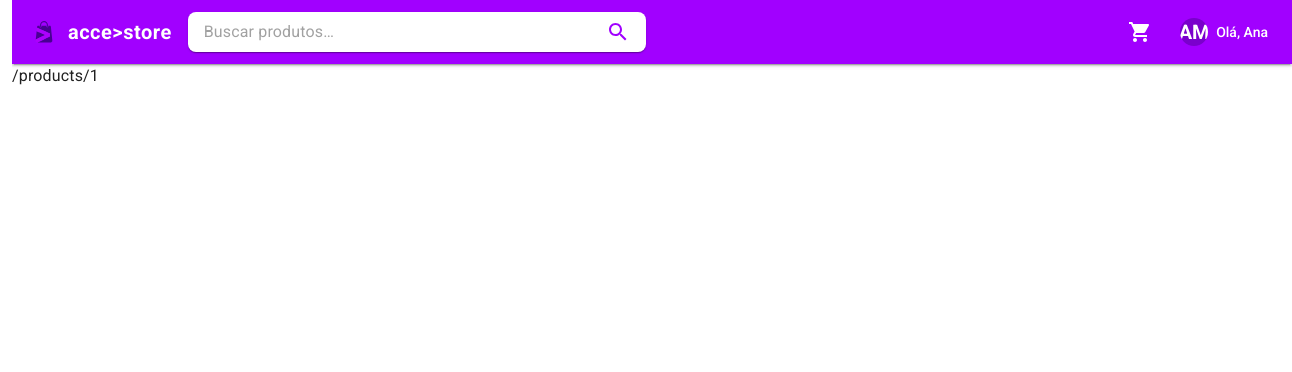
Test: Header › menu do usuário abre, oferece Sair e desloga
Click the button "AM Olá, Ana" at (1226, 32), box [1176, 12, 1276, 52]
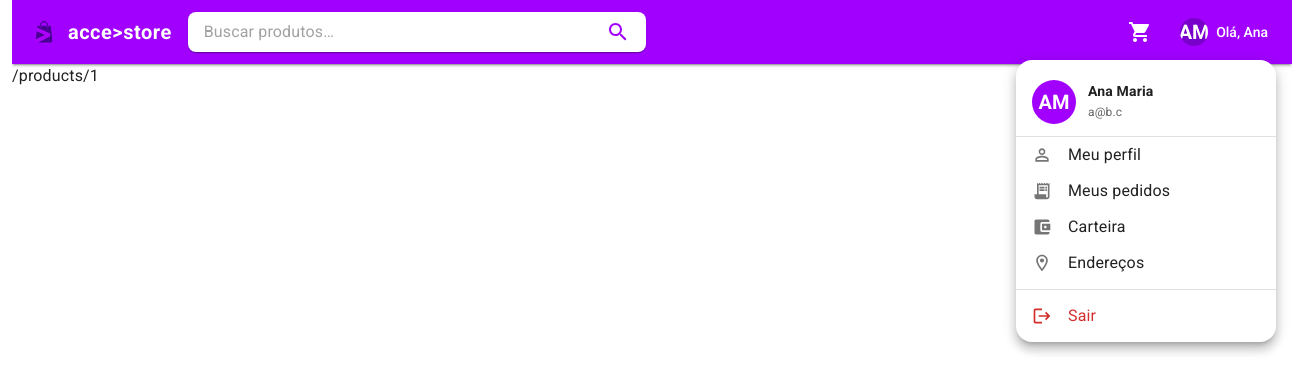
expect the menu item "Meu perfil" is shown: met, box [1032, 145, 1141, 165]
expect the menu item "Meus pedidos" is shown: met, box [1032, 181, 1170, 201]
expect the menu item "Carteira" is shown: met, box [1032, 217, 1126, 237]
Click the menu item "Sair" at (1042, 316), box [1032, 306, 1096, 326]
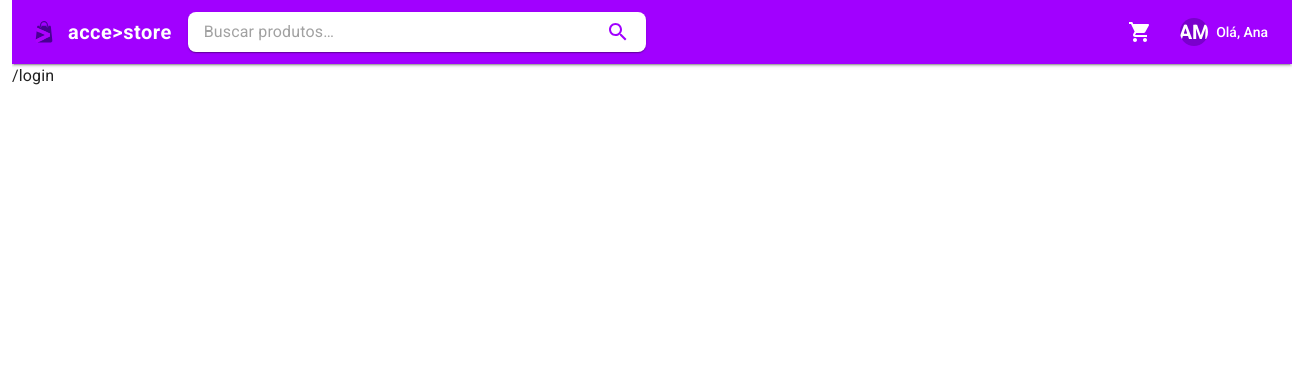
expect the text with test id "loc" reads "/login": met, box [12, 66, 54, 85]
